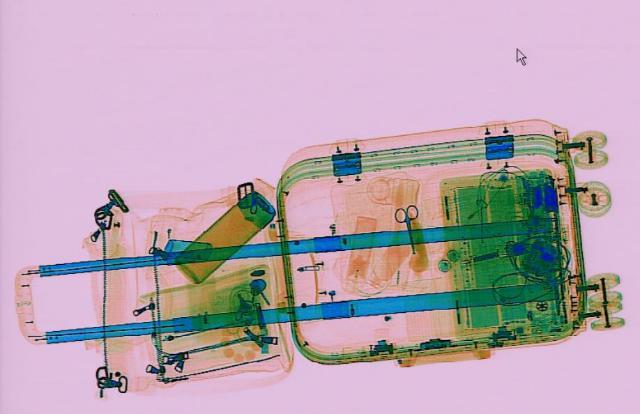Scissors: (389, 203, 429, 251)
